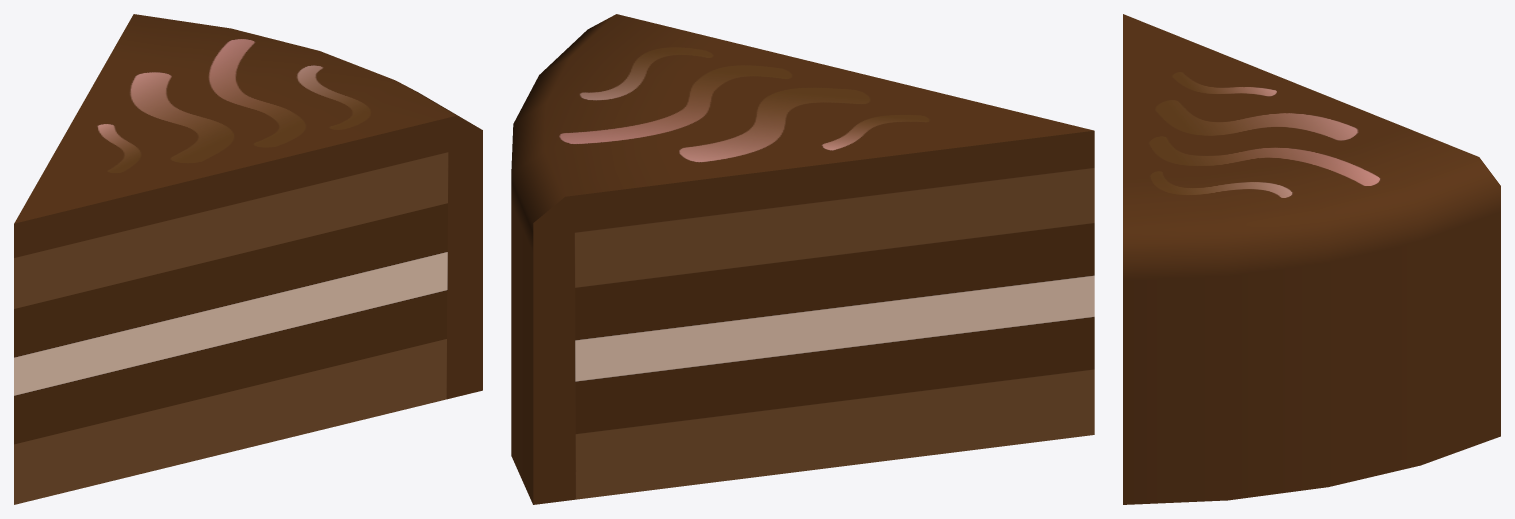
The model's file is cakeChoco.fbx.
3 views of the same model, side by side, from view 1: azimuth 30°, elevation 25°; view 2: azimuth 150°, elevation 25°; view 3: azimuth 270°, elevation 25° (orthographic). The views are drawn at different scales.
Parts seen in each view (by area): view 1: cake_van_2; view 2: cake_van_2; view 3: cake_van_2.
Part boxes in pixels (box(x1,y1,x2,y2)): cake_van_2: box(14, 14, 482, 504); cake_van_2: box(511, 14, 1094, 504); cake_van_2: box(1123, 14, 1500, 504).
Bounding box in the file's own units: 55.43 × 31.78 × 40.17.
1 material, 1 textured.
